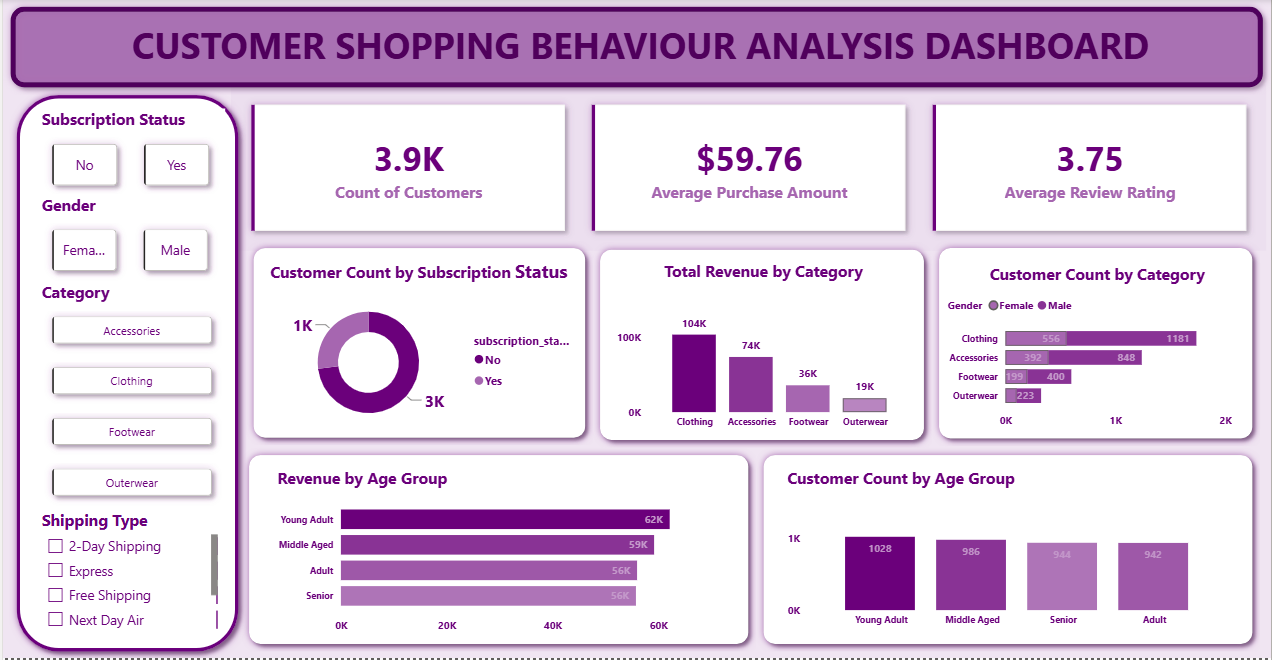

What the dashboard file says about the page in this screenshot:
{"tool":"powerbi","page":{"name":"Page 1","canvas":[1500,780],"ordinal":0},"visuals":[{"type":"shape","box":[289.2,296.3,410.3,242.3],"z":0,"group":"g1"},{"type":"shape","box":[697.4,296.3,401,243.1],"z":0,"group":"g2"},{"type":"shape","box":[890.8,539.4,596.2,241.3],"z":0},{"type":"shape","box":[289.2,539.4,608.6,241.3],"z":1000},{"type":"cardVisual","fields":{"Data":["customers.Count of Customers","customers.Average Purchase Amount","customers.Average Review Rating"]},"box":[264.4,104.7,1235,207.6],"z":2000},{"type":"shape","box":[1097.7,296.1,388.6,243.1],"z":2000,"group":"g3"},{"type":"shape","box":[0,0,1499.4,113.6],"z":3000},{"type":"textbox","box":[21.3,19.5,1465.7,76.3],"z":4000},{"type":"donutChart","fields":{"Category":["customers.subscription_status"],"Y":["customers.Count of Customers"]},"box":[302.6,355.1,383.5,170.6],"z":4000,"group":"g1"},{"type":"group","id":"g1","title":"Group 1","box":[289.2,296.3,409.9,243.1],"z":5000},{"type":"textbox","box":[305.3,312.1,376.8,43],"z":5000,"group":"g1"},{"type":"shape","box":[7.1,104.7,280.4,676.1],"z":6000},{"type":"advancedSlicerVisual","fields":{"Values":["customers.subscription_status"]},"box":[40.8,129.5,221.8,108.2],"z":7000},{"type":"clusteredColumnChart","fields":{"Category":["customers.category"],"Y":["Sum(customers.purchase_amount)"]},"box":[720.5,351.3,358.4,173.9],"z":7000,"group":"g2"},{"type":"textbox","box":[720.5,312.3,358.4,42.6],"z":8000,"group":"g2"},{"type":"advancedSlicerVisual","fields":{"Values":["customers.category"]},"box":[40.8,333.6,223.6,271.5],"z":8000},{"type":"advancedSlicerVisual","fields":{"Values":["customers.gender"]},"box":[40.8,230.7,218.3,108.2],"z":9000},{"type":"barChart","fields":{"Category":["customers.category"],"Y":["customers.Count of Customers"],"Series":["customers.gender"]},"box":[1112.6,353.1,346,173.9],"z":9000,"group":"g3"},{"type":"textbox","box":[1125,314,319.4,39],"z":10000,"group":"g3"},{"type":"slicer","title":"Shipping Type","fields":{"Values":["customers.shipping_type"]},"box":[40.8,603.3,218.3,147.3],"z":10000},{"type":"group","id":"g2","title":"Group 2","box":[697.4,296.3,401,243.1],"z":11000},{"type":"group","id":"g3","title":"Group 3","box":[1097.7,296.1,388.6,243.1],"z":12000},{"type":"clusteredBarChart","fields":{"Category":["customers.age_group"],"Y":["Sum(customers.purchase_amount)"]},"box":[324.7,585.6,534.1,181],"z":13000,"group":"g5"},{"type":"textbox","box":[324.7,555.4,505.7,42.6],"z":14000,"group":"g5"},{"type":"textbox","box":[928,557.2,301.7,40.8],"z":15000,"group":"g4"},{"type":"columnChart","fields":{"Category":["customers.age_group"],"Y":["CountNonNull(customers.customer_id)"]},"box":[928,590.9,530.6,168.6],"z":16000,"group":"g4"},{"type":"group","id":"g4","title":"Group 4","box":[928,557.2,530.6,202.3],"z":16001},{"type":"group","id":"g5","title":"Group 5","box":[324.7,555.4,534.1,211.2],"z":16002}]}

Visuals, with their boxes in screenshot pixels (x1, y1, x2, y2), scaled from the page's 1500x780 canvas onto the 1272x660 screenshot:
shape: x1=245 y1=251 x2=593 y2=456
shape: x1=591 y1=251 x2=931 y2=456
shape: x1=755 y1=456 x2=1261 y2=659
shape: x1=245 y1=456 x2=761 y2=659
cardVisual - customers.Count of Customers x customers.Average Purchase Amount: x1=224 y1=89 x2=1271 y2=264
shape: x1=931 y1=251 x2=1260 y2=456
shape: x1=0 y1=0 x2=1271 y2=96
textbox: x1=18 y1=16 x2=1261 y2=81
donutChart - customers.subscription_status x customers.Count of Customers: x1=257 y1=300 x2=582 y2=445
"Group 1" group: x1=245 y1=251 x2=593 y2=456
textbox: x1=259 y1=264 x2=578 y2=300
shape: x1=6 y1=89 x2=244 y2=659
advancedSlicerVisual - customers.subscription_status: x1=35 y1=110 x2=223 y2=201
clusteredColumnChart - customers.category x Sum(customers.purchase_amount): x1=611 y1=297 x2=915 y2=444
textbox: x1=611 y1=264 x2=915 y2=300
advancedSlicerVisual - customers.category: x1=35 y1=282 x2=224 y2=512
advancedSlicerVisual - customers.gender: x1=35 y1=195 x2=220 y2=287
barChart - customers.category x customers.Count of Customers: x1=943 y1=299 x2=1237 y2=446
textbox: x1=954 y1=266 x2=1225 y2=299
"Shipping Type" slicer: x1=35 y1=510 x2=220 y2=635
"Group 2" group: x1=591 y1=251 x2=931 y2=456
"Group 3" group: x1=931 y1=251 x2=1260 y2=456
clusteredBarChart - customers.age_group x Sum(customers.purchase_amount): x1=275 y1=496 x2=728 y2=649
textbox: x1=275 y1=470 x2=704 y2=506
textbox: x1=787 y1=471 x2=1043 y2=506
columnChart - customers.age_group x CountNonNull(customers.customer_id): x1=787 y1=500 x2=1237 y2=643
"Group 4" group: x1=787 y1=471 x2=1237 y2=643
"Group 5" group: x1=275 y1=470 x2=728 y2=649
